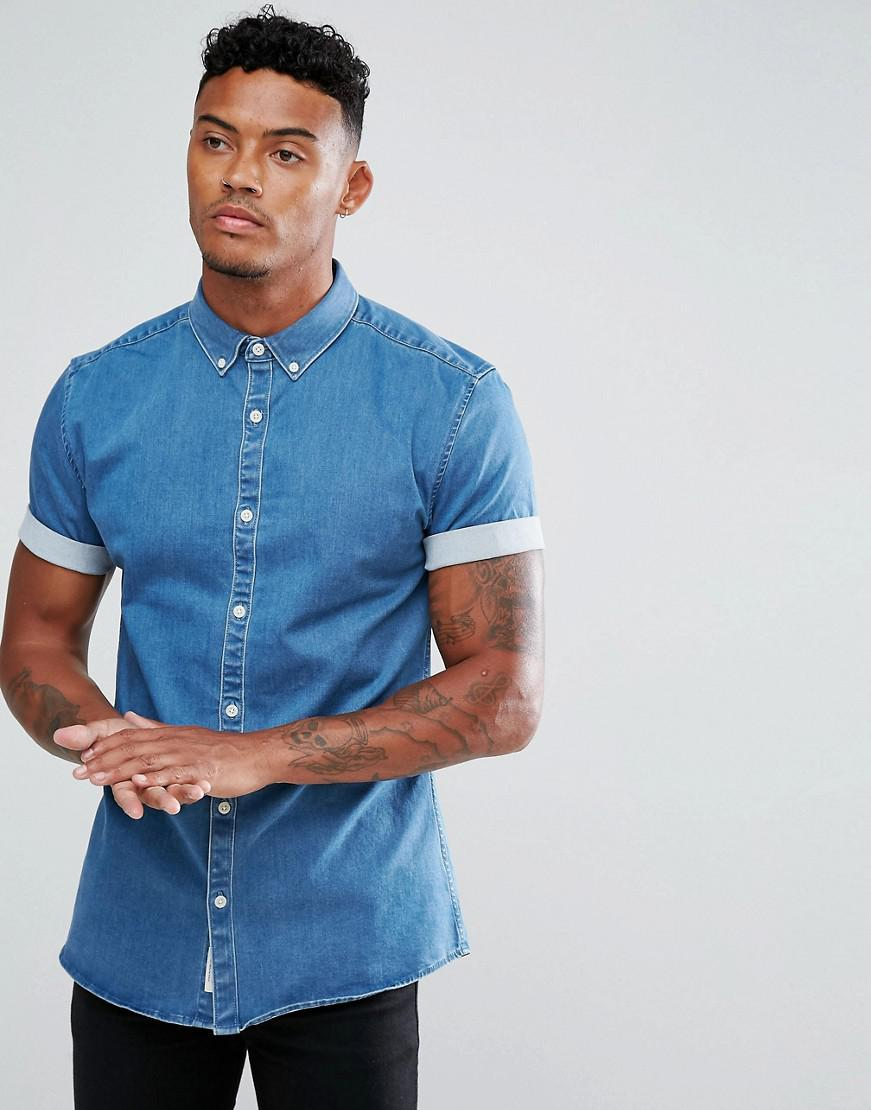teeshirt: (7, 268, 549, 1027)
